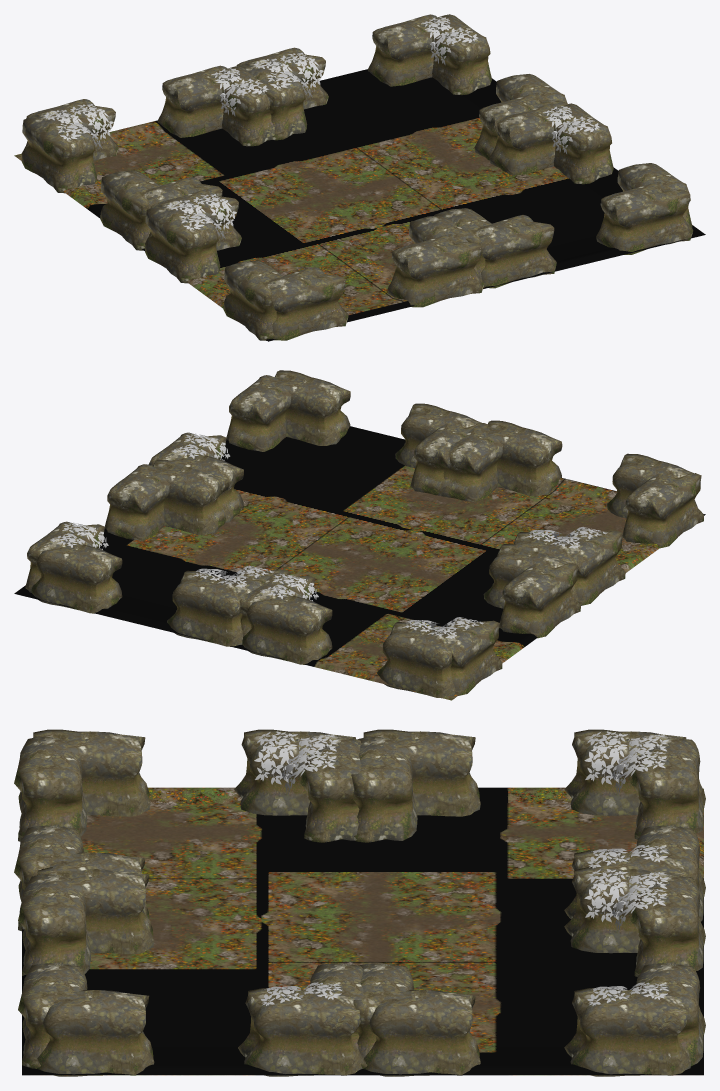
File: Habitacion_Grande.fbx
The picture shows the model from 3 angles, top to bottom: view 1: azimuth 30°, elevation 25°; view 2: azimuth 150°, elevation 25°; view 3: azimuth 270°, elevation 25°; orthographic projection. The views are drawn at different scales.
Visible parts, largest first — view 1: pPlane41; view 2: pPlane41; view 3: pPlane41.
Part boxes in pixels (x1,y1,x2,y2): pPlane41: [14, 14, 705, 341]; pPlane41: [14, 370, 705, 700]; pPlane41: [14, 729, 705, 1076].
Bounding box in the file's own units: 474 × 52.55 × 478.
